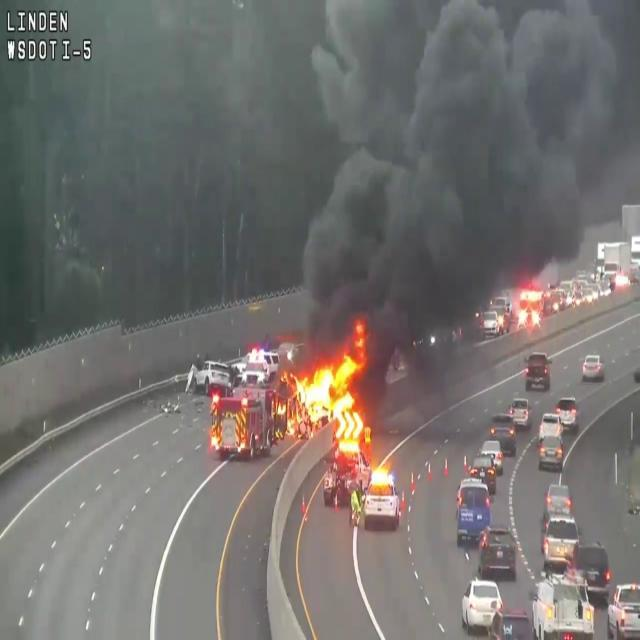Fire: (276, 349, 367, 432)
Smoke: (282, 0, 640, 318)
